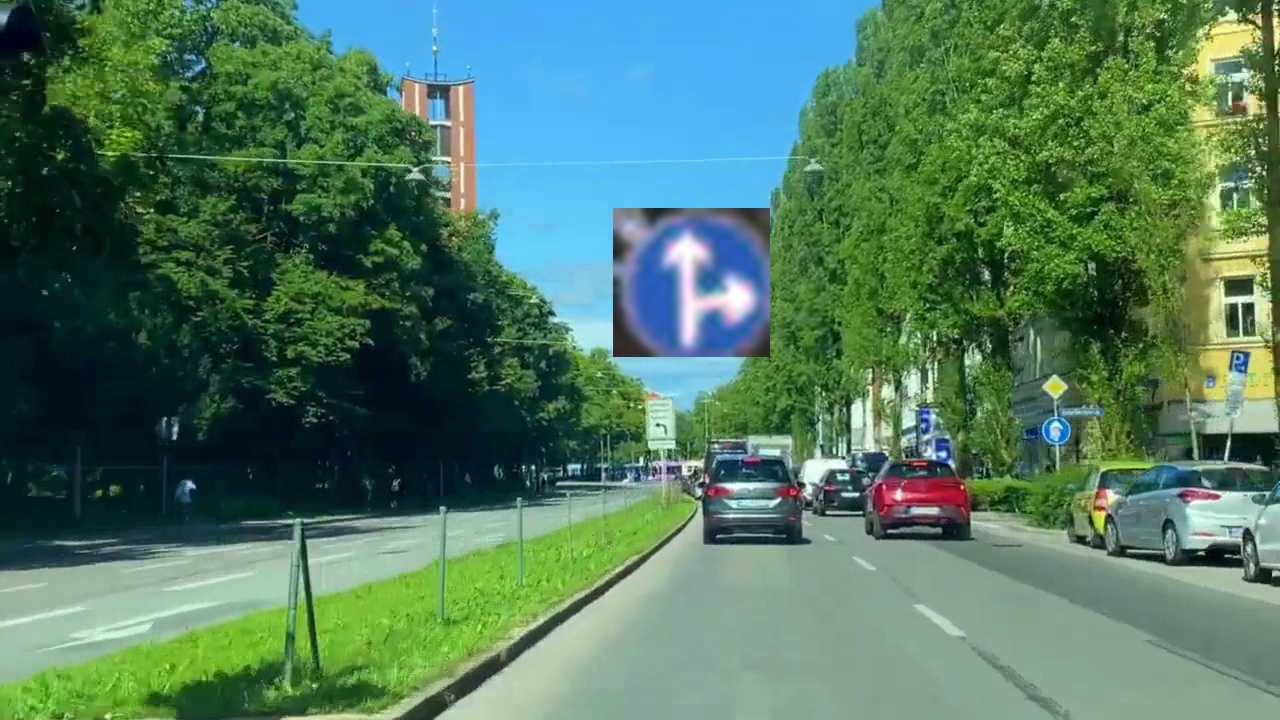Straight/right: (613, 208, 770, 357)
